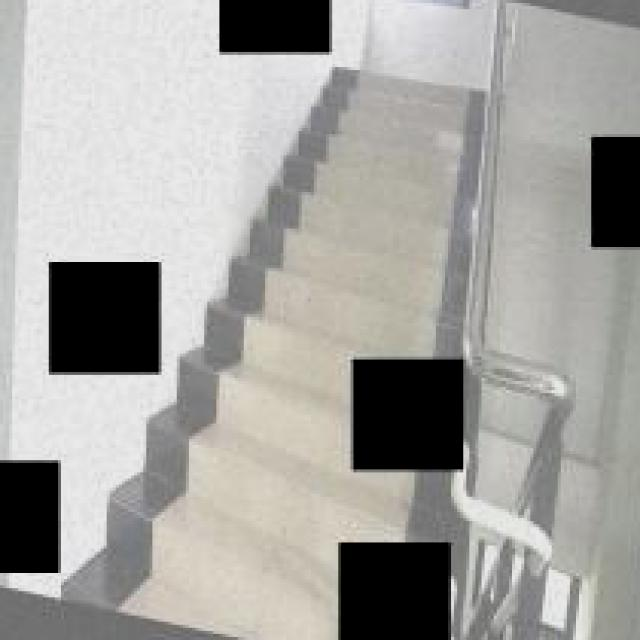upstair: (342, 53, 455, 339)
